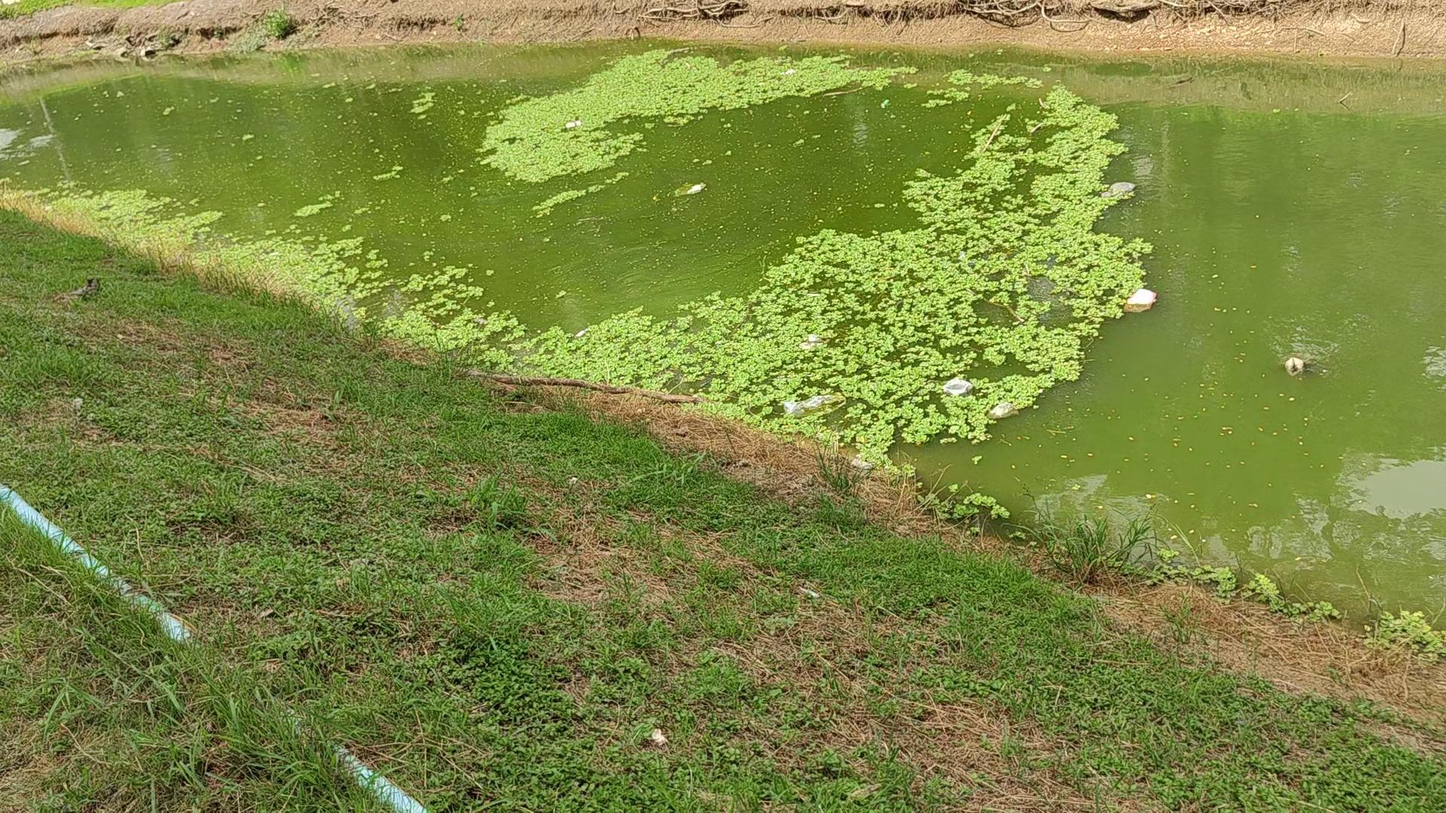trash: (783, 394, 840, 416), (1124, 288, 1156, 312), (943, 377, 973, 395), (989, 401, 1017, 419), (1102, 182, 1135, 196), (1285, 355, 1305, 374), (800, 334, 822, 349), (679, 184, 705, 193), (564, 120, 582, 129), (781, 69, 795, 75)
